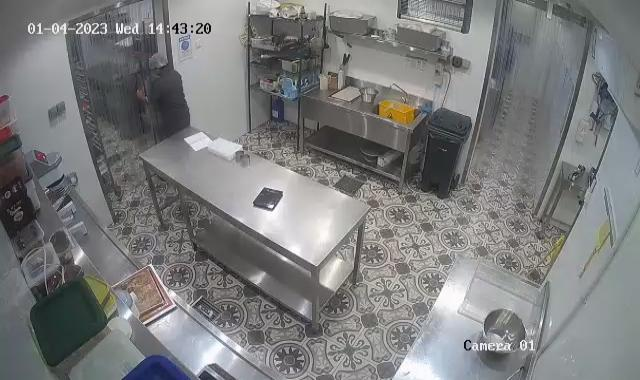hairnet: (147, 49, 170, 72)
